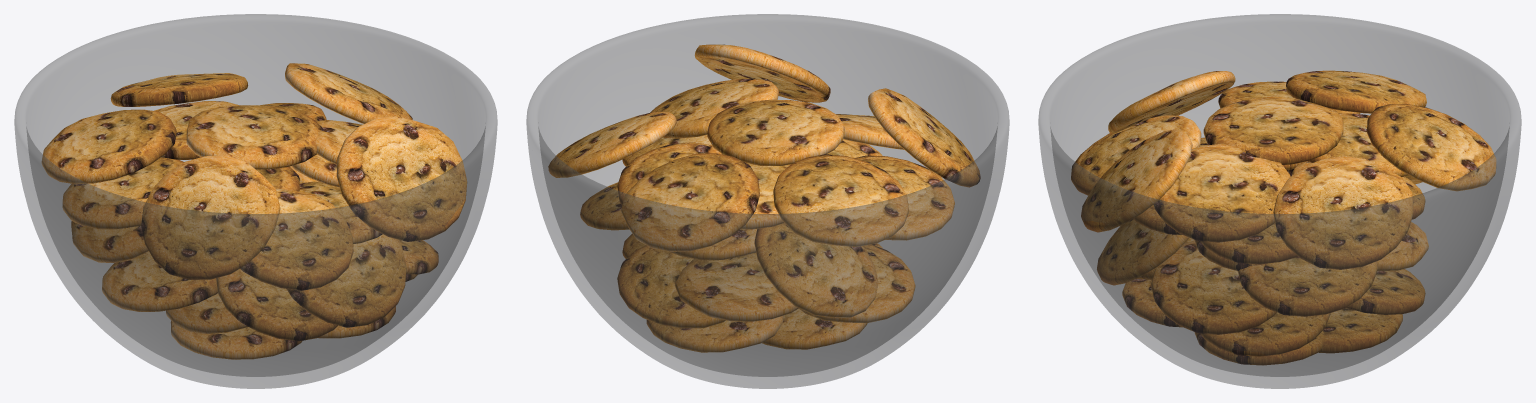
File: bowl di biscotti.fbx
The picture shows the model from 3 angles, left to right: view 1: azimuth 30°, elevation 25°; view 2: azimuth 150°, elevation 25°; view 3: azimuth 270°, elevation 25°; orthographic projection.
Visible parts, largest first — view 1: Bowl_01_0, coockie.031, coockie.015, coockie.016, coockie.024, coockie.019, coockie.014, coockie.005, coockie.020, coockie.009, coockie.017, coockie.030 (+11 smaller); view 2: Bowl_01_0, coockie.030, coockie.016, coockie.013, coockie.019, coockie.006, coockie.031, coockie.011, coockie.017, coockie.015, coockie.020, coockie.021 (+10 smaller); view 3: Bowl_01_0, coockie.017, coockie.021, coockie.030, coockie.019, coockie.008, coockie.015, coockie.012, coockie.016, coockie.014, coockie.024, coockie.007 (+12 smaller).
Boxes of the visible parts, x1,y1,x2,y2 form: Bowl_01_0: [14, 14, 497, 388]; coockie.031: [141, 155, 280, 279]; coockie.015: [336, 116, 467, 241]; coockie.016: [41, 109, 176, 184]; coockie.024: [240, 188, 353, 290]; coockie.019: [186, 105, 322, 169]; coockie.014: [286, 234, 406, 327]; coockie.005: [216, 269, 337, 341]; coockie.020: [62, 157, 183, 229]; coockie.009: [102, 251, 217, 311]; coockie.017: [285, 63, 412, 123]; coockie.030: [110, 73, 248, 106]; Bowl_01_0: [526, 14, 1009, 388]; coockie.030: [621, 153, 759, 251]; coockie.016: [773, 154, 908, 246]; coockie.013: [754, 223, 878, 317]; coockie.019: [707, 99, 844, 165]; coockie.006: [675, 252, 798, 321]; coockie.031: [868, 88, 980, 187]; coockie.011: [617, 245, 725, 328]; coockie.017: [548, 112, 676, 177]; coockie.015: [694, 44, 830, 102]; coockie.020: [854, 155, 954, 240]; coockie.021: [650, 79, 778, 138]; Bowl_01_0: [1038, 14, 1521, 388]; coockie.017: [1273, 156, 1413, 269]; coockie.021: [1154, 143, 1290, 242]; coockie.030: [1367, 104, 1496, 191]; coockie.019: [1203, 96, 1343, 164]; coockie.008: [1151, 240, 1276, 334]; coockie.015: [1081, 129, 1192, 232]; coockie.012: [1238, 256, 1377, 316]; coockie.016: [1286, 70, 1426, 113]; coockie.014: [1097, 219, 1188, 285]; coockie.024: [1071, 115, 1201, 195]; coockie.007: [1200, 312, 1330, 356].
Bounding box in the file's own units: 12 × 6.85 × 12.
33 materials, 32 textured.
